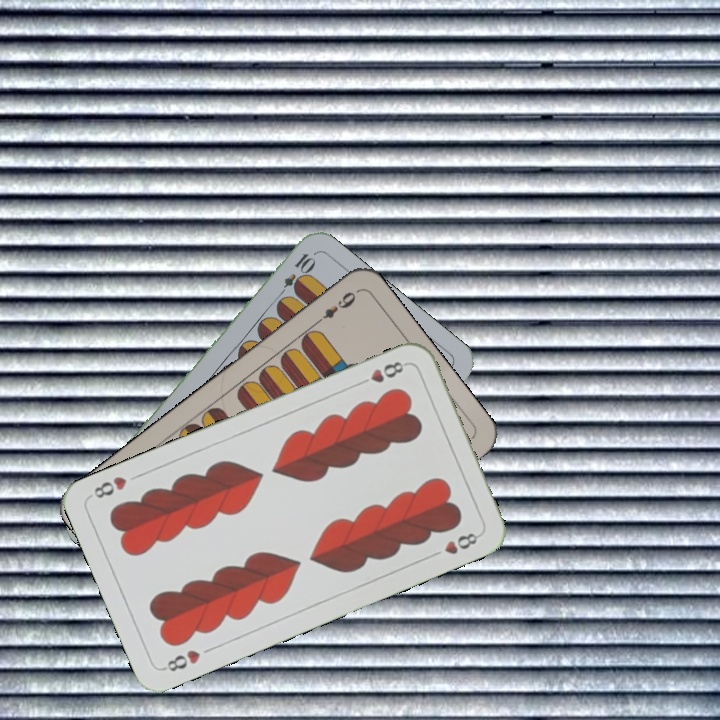E10: (273, 249, 317, 302)
E9: (310, 287, 360, 328)
H8: (354, 357, 410, 389), (158, 646, 203, 675)
